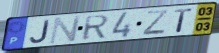4: (110, 11, 133, 40)
J: (29, 19, 51, 44)
N: (48, 14, 83, 45)
R: (81, 14, 111, 42)
T: (173, 7, 193, 33)
Z: (141, 9, 170, 36)
